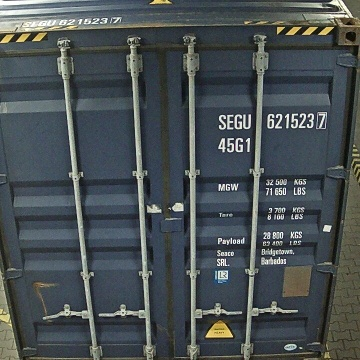serial_id: (219, 112, 326, 129)
